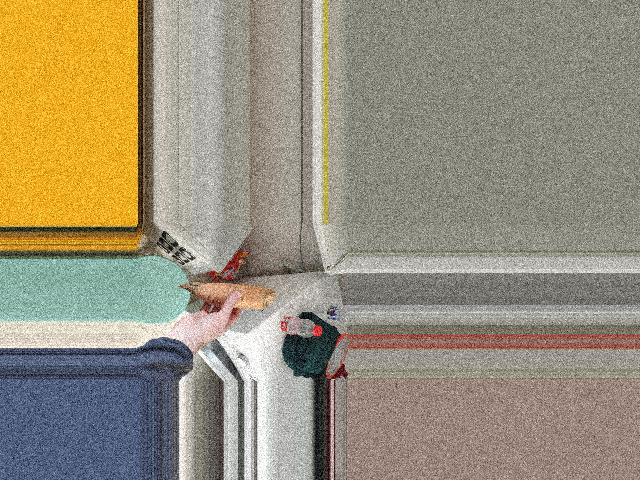sweet_potato: (180, 274, 272, 310)
